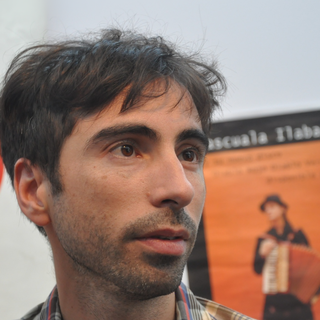eye: (94, 136, 148, 166), (173, 142, 206, 173)
